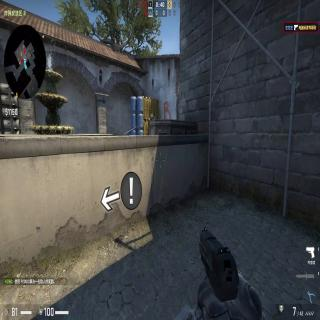T-Head: (150, 112, 154, 118)
